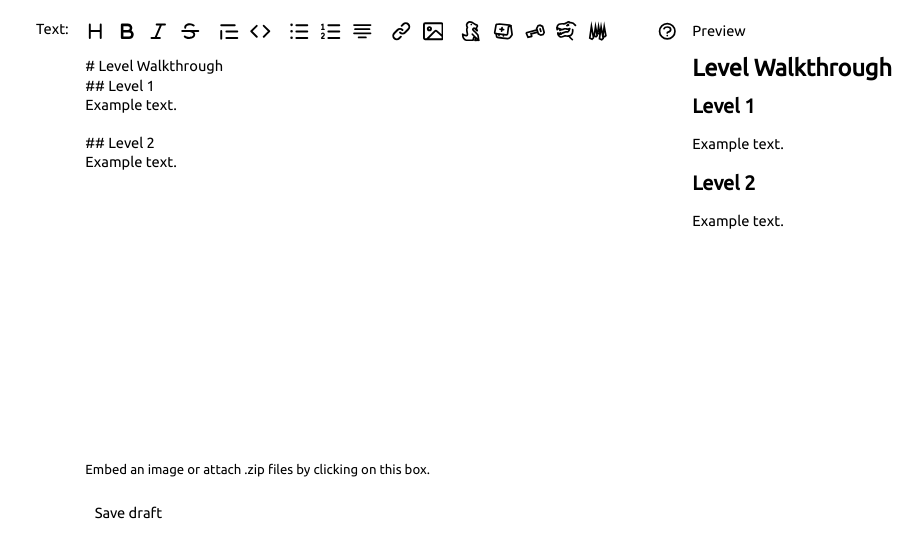
Test case: WalkthroughForm › submits the text and shows the success message
Click the button "Save draft": (128, 513) [78,496,179,529]
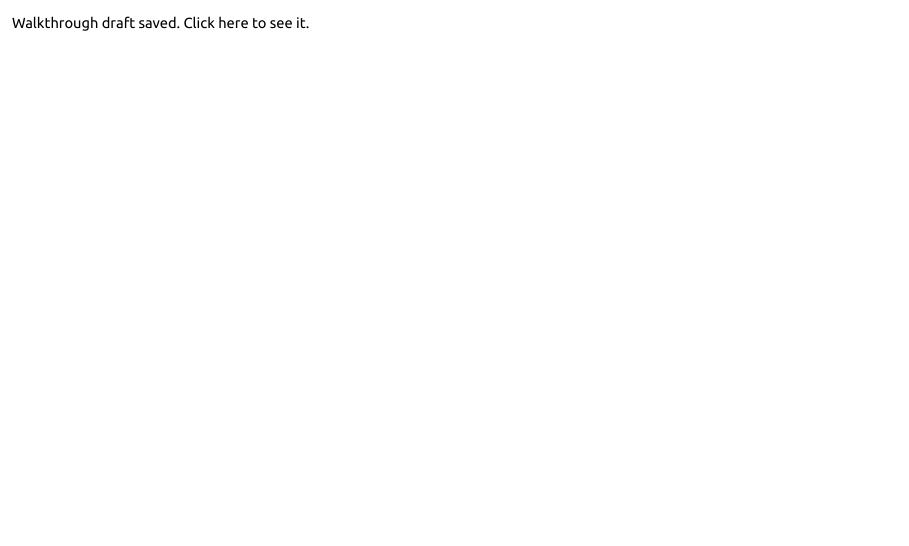
Expected: the text "Walkthrough draft saved. Click here to see it." is shown, [12,14,309,31]
